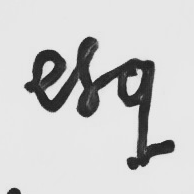e: (30, 48, 69, 115)
q: (114, 55, 158, 166)
s: (72, 34, 102, 119)
